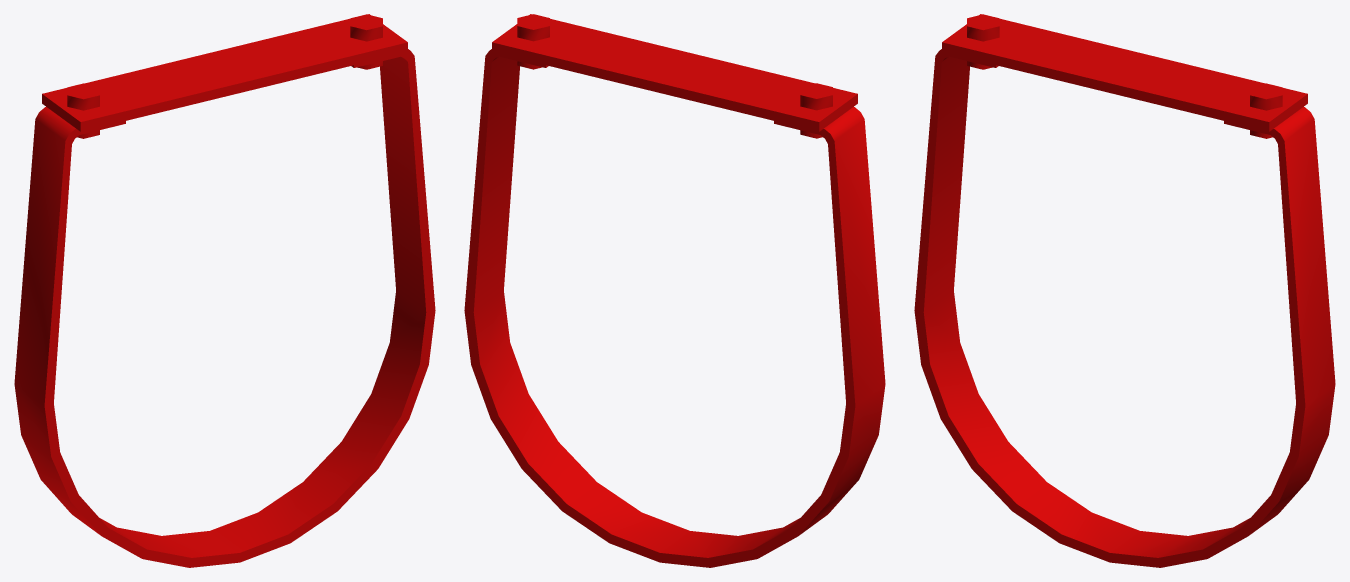
3 renders of one model, left to right at view 1: azimuth 30°, elevation 25°; view 2: azimuth 150°, elevation 25°; view 3: azimuth 330°, elevation 25°, orthographic.
Visible parts, largest first — view 1: Mesh; view 2: Mesh; view 3: Mesh.
Boxes of the visible parts, x1,y1,x2,y2 form: Mesh: (14, 14, 435, 567); Mesh: (464, 14, 885, 567); Mesh: (914, 14, 1335, 567).
Size of the model in its own units: 0.42 by 0.508 by 0.072.
